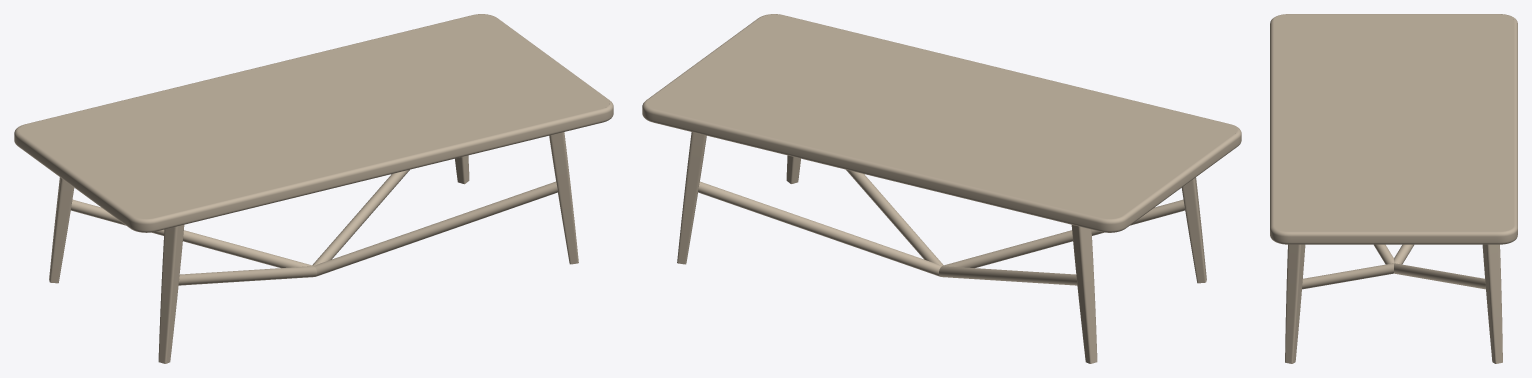
The model's file is 3dcodebench_CoffeeTable_seed0.glb.
The picture shows the model from 3 angles, left to right: view 1: azimuth 30°, elevation 25°; view 2: azimuth 150°, elevation 25°; view 3: azimuth 270°, elevation 25°; orthographic projection. The views are drawn at different scales.
Parts seen in each view (by area): view 1: object; view 2: object; view 3: object.
Boxes of the visible parts, <box> form: object: <box>14,14,613,363</box>; object: <box>642,14,1241,363</box>; object: <box>1270,14,1517,363</box>.
Bounding box in the file's own units: 1.51 × 0.4788 × 0.7184.
